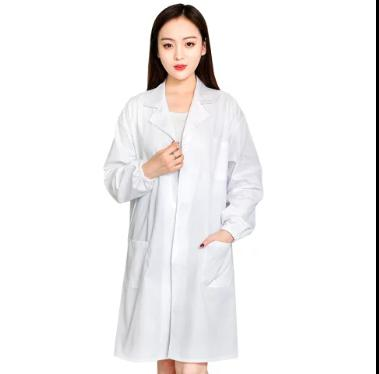lab_coat: (101, 76, 264, 365)
